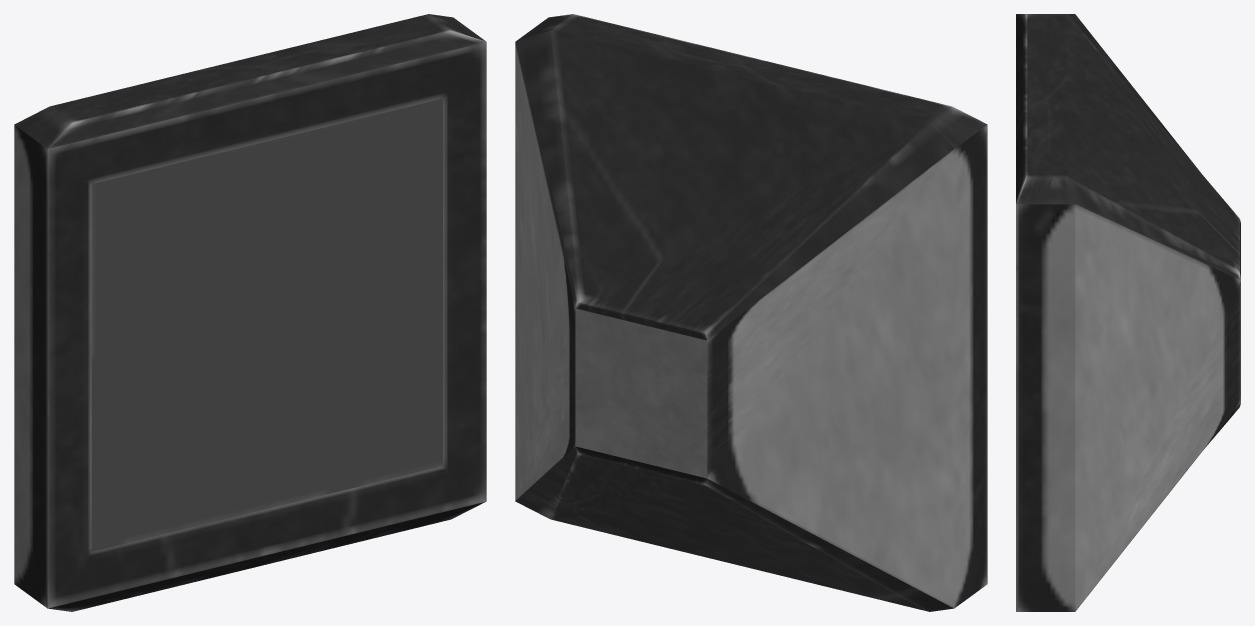
Rendered from CubeWall.fbx.
The picture shows the model from 3 angles, left to right: view 1: azimuth 30°, elevation 25°; view 2: azimuth 150°, elevation 25°; view 3: azimuth 270°, elevation 25°; orthographic projection. The views are drawn at different scales.
Visible parts, largest first — view 1: CubeWall; view 2: CubeWall; view 3: CubeWall.
Boxes of the visible parts, x1=… form: CubeWall: x1=14, y1=14, x2=486, y2=611; CubeWall: x1=515, y1=14, x2=987, y2=611; CubeWall: x1=1016, y1=14, x2=1240, y2=611.
Bounding box in the file's own units: 0.6629 × 0.7052 × 0.3314.
